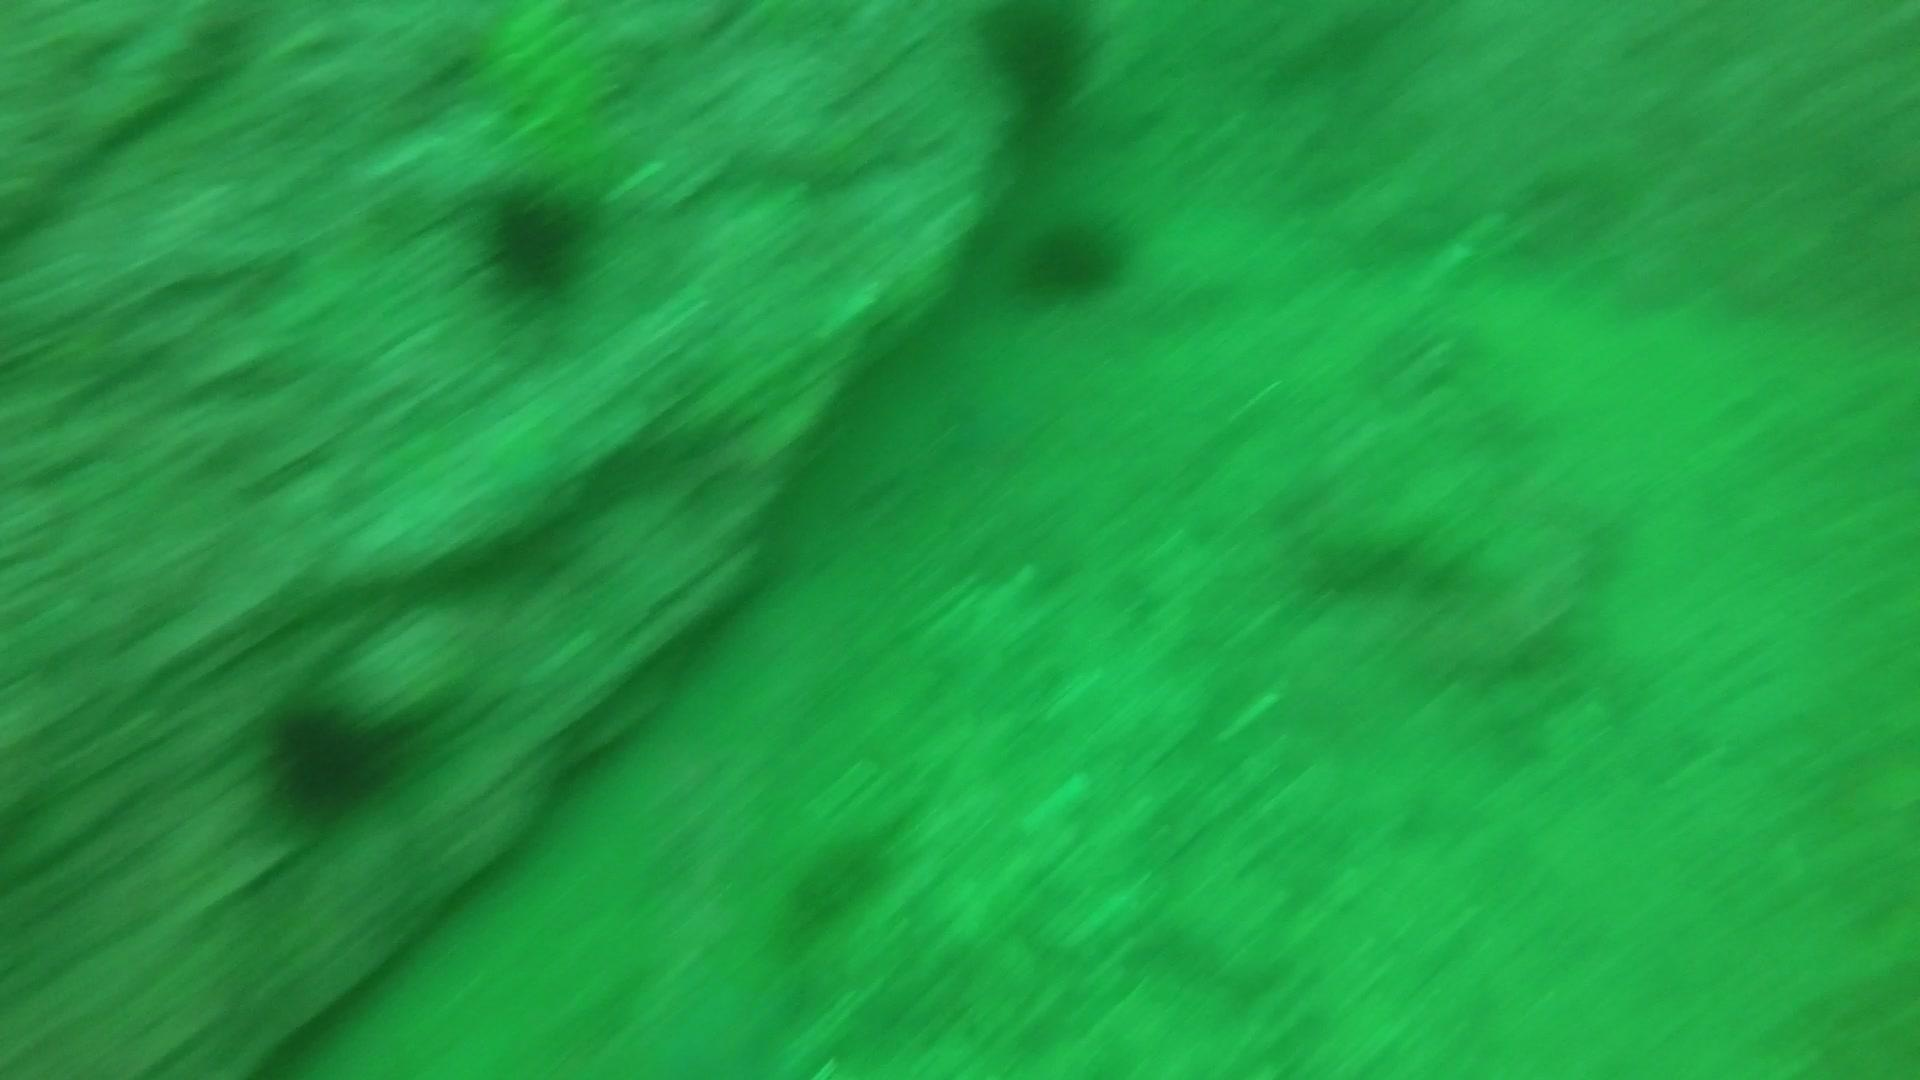echinus: (256, 688, 410, 822), (968, 1, 1106, 119), (469, 175, 597, 301), (1011, 206, 1133, 307)
